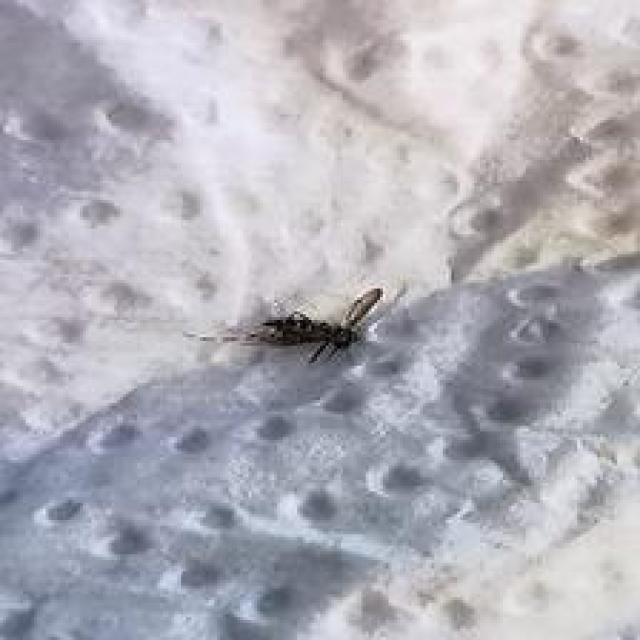Aedes albopictus: (184, 286, 384, 366)
